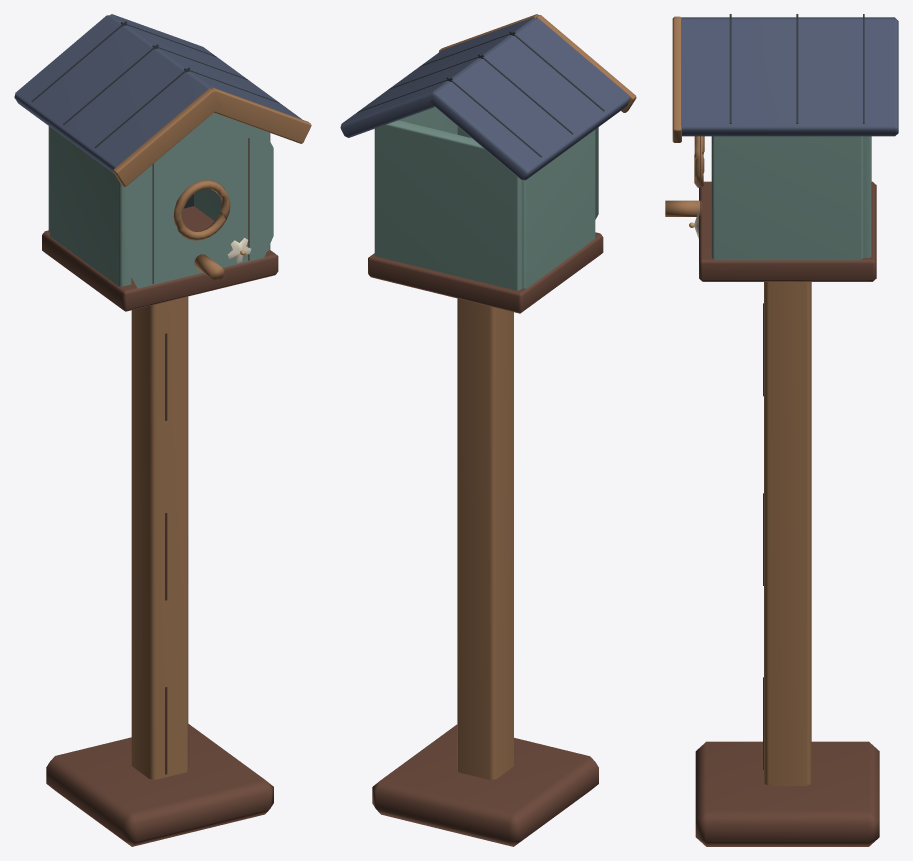
Rendered from birdhouse.glb.
3 views of the same model, side by side, from view 1: azimuth 30°, elevation 25°; view 2: azimuth 150°, elevation 25°; view 3: azimuth 270°, elevation 25° (orthographic). The views are drawn at different scales.
Parts seen in each view (by area): view 1: birdhouse; view 2: birdhouse; view 3: birdhouse.
Part boxes in pixels (box(x1,y1,x2,y2)): birdhouse: box(14, 14, 311, 846); birdhouse: box(340, 14, 636, 846); birdhouse: box(665, 14, 898, 846).
Size of the model in its own units: 0.3768 by 1.39 by 0.368.
